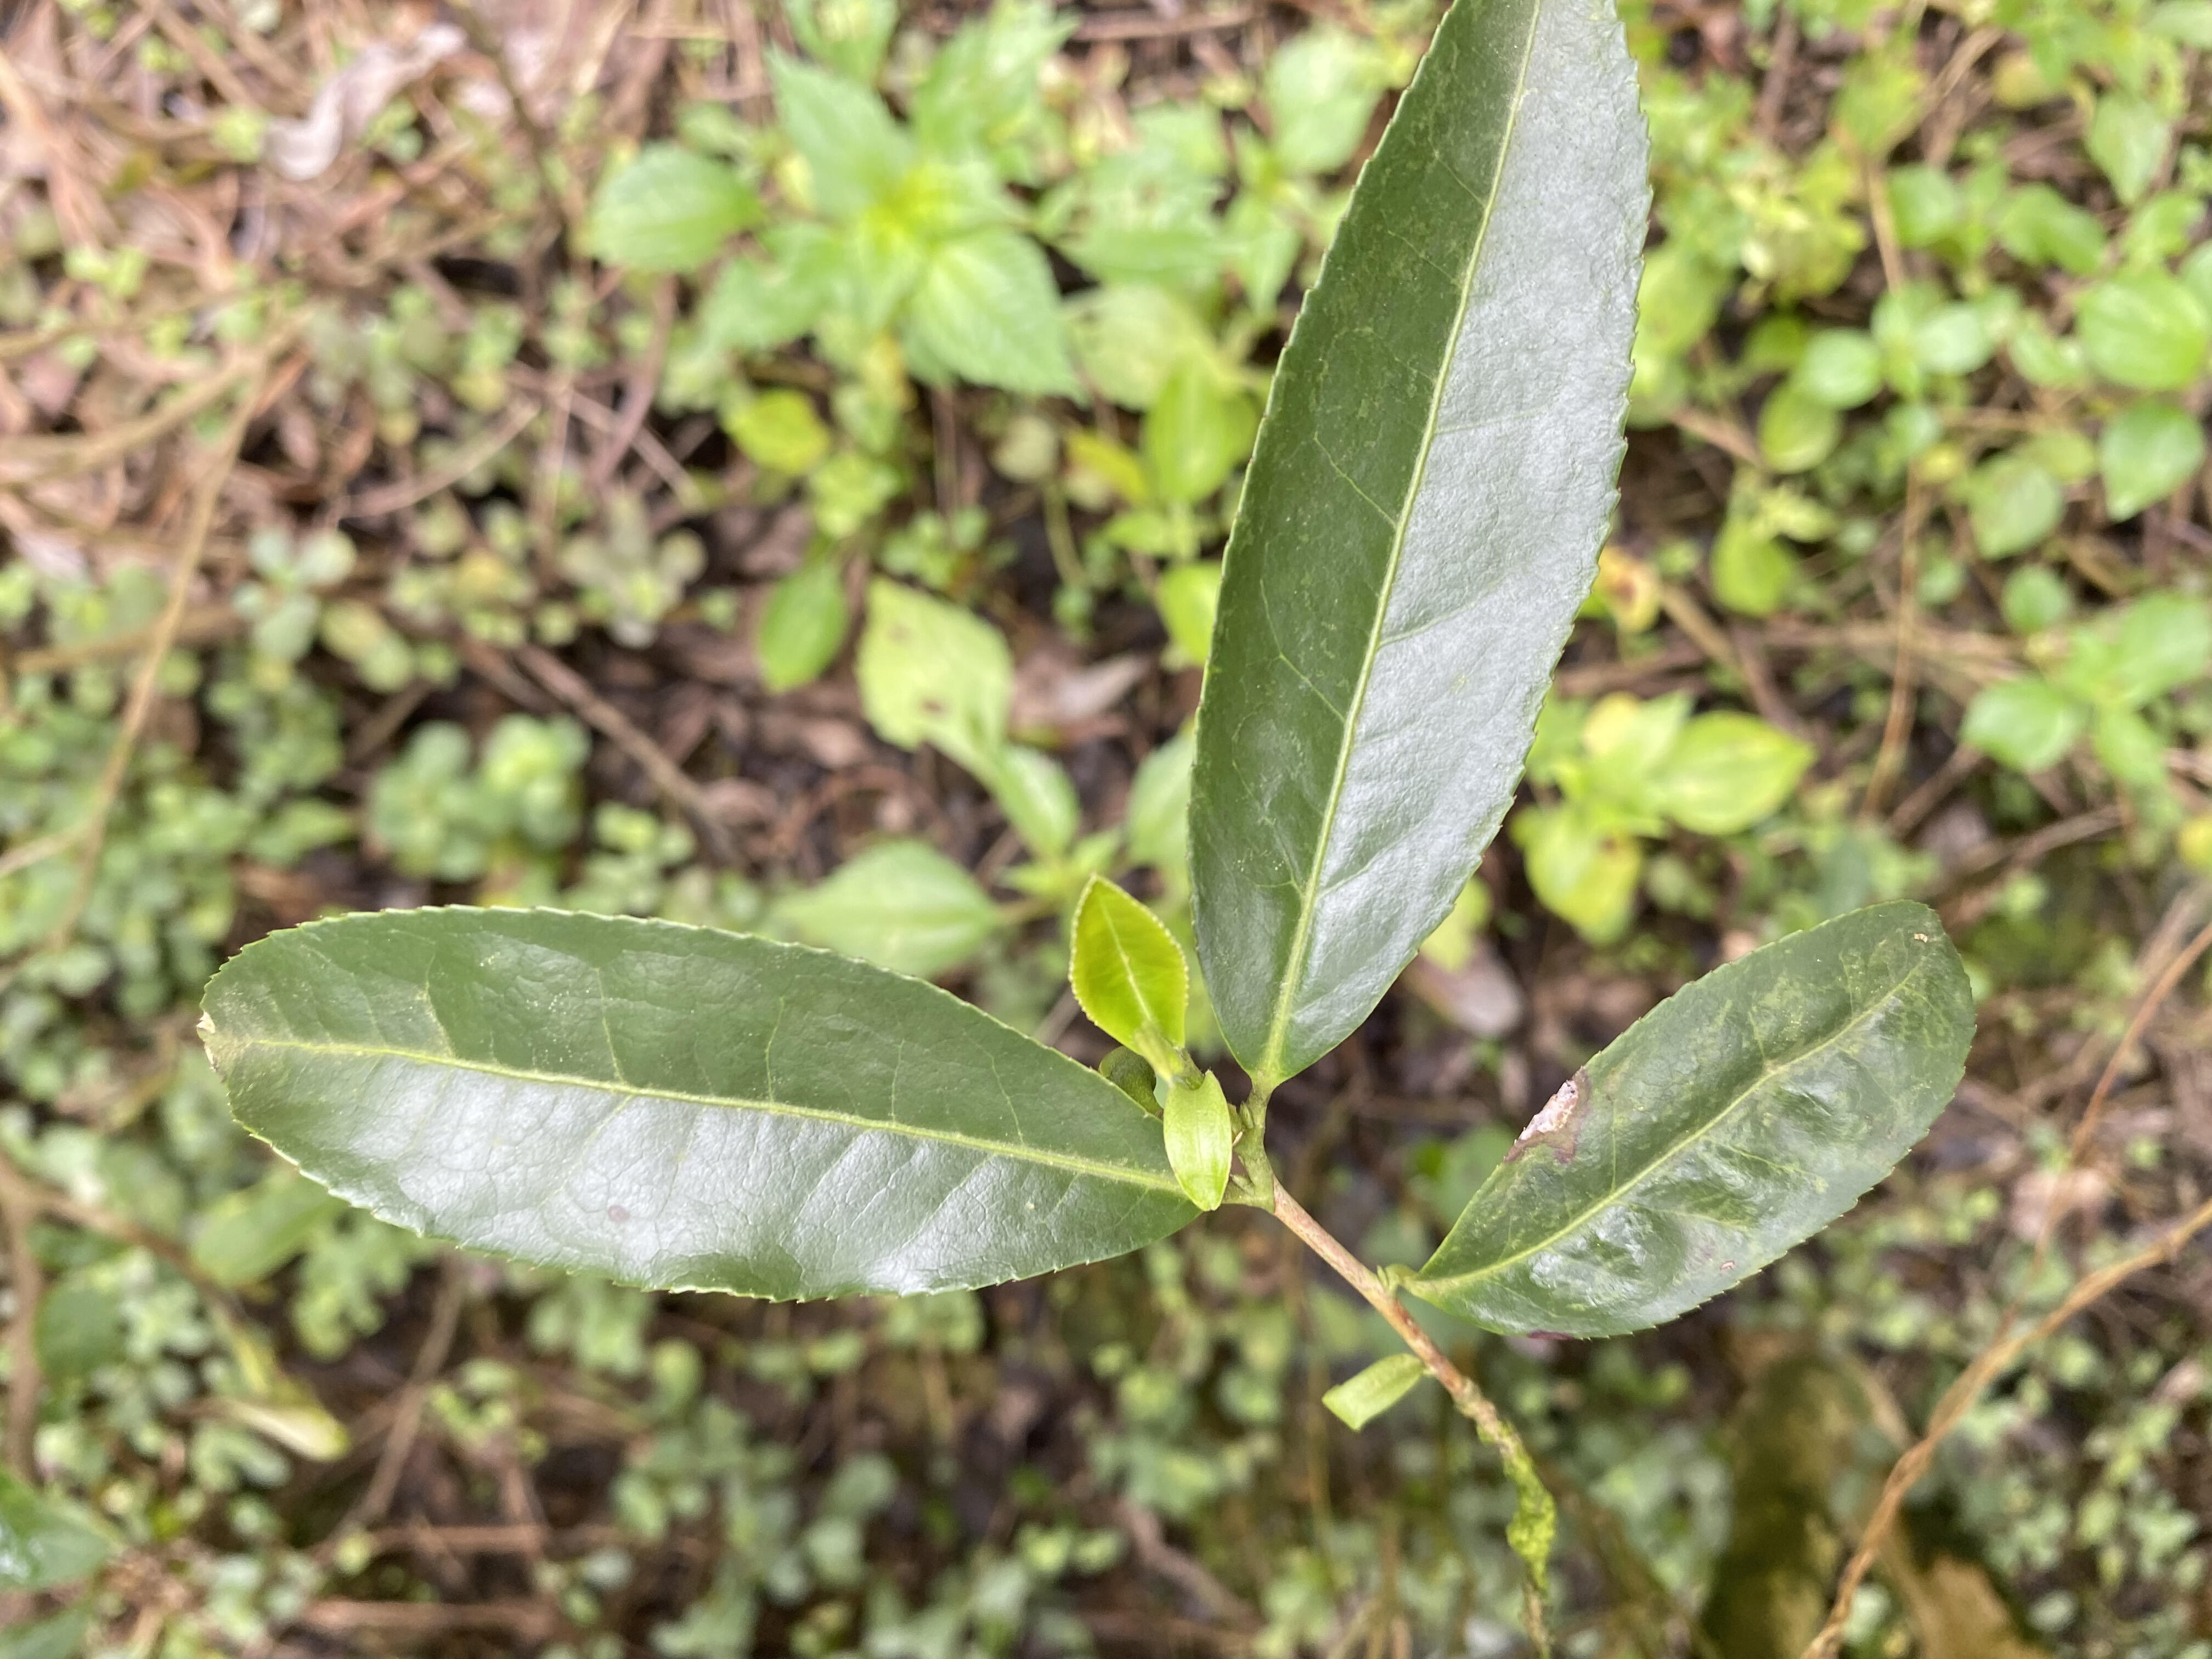healthy: (1188, 3, 1655, 1093), (206, 904, 1197, 1309), (1066, 875, 1190, 1072)
tanju_high: (1414, 897, 1984, 1340)
